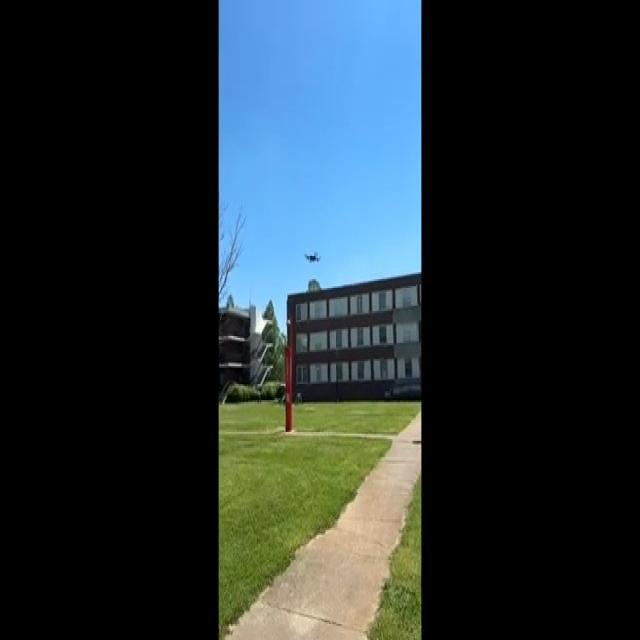drone: (300, 242, 326, 271)
